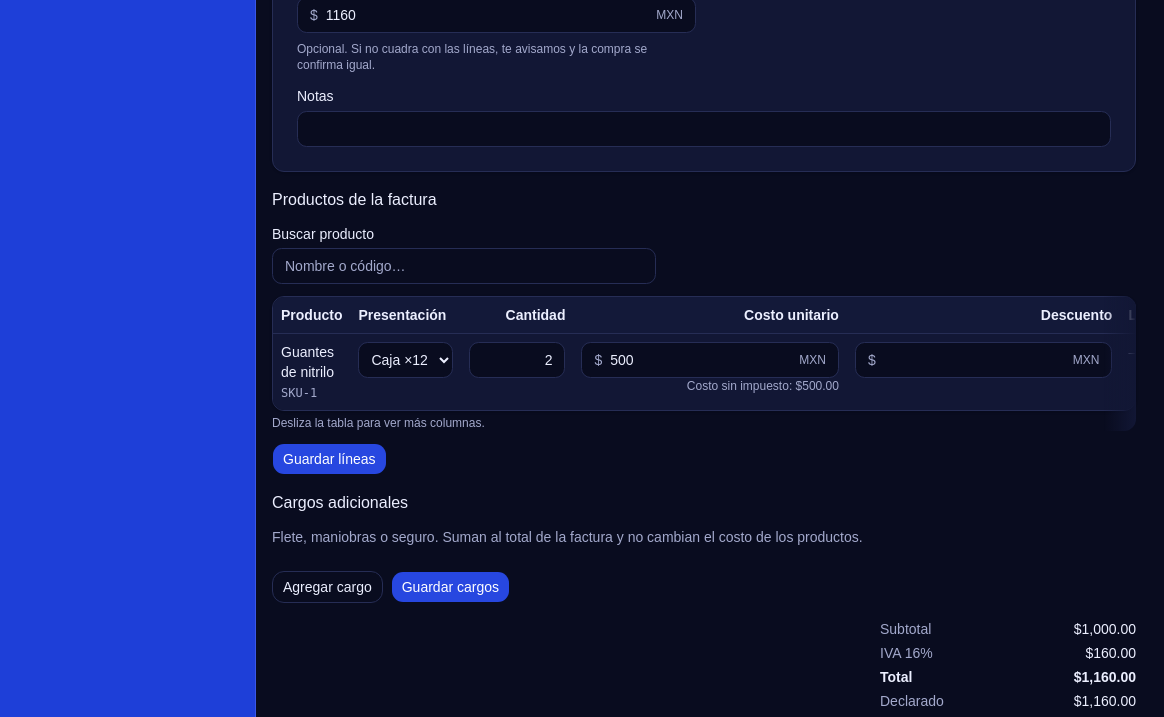
Compras — la ficha (F9-PURCH-11) › confirmar con la cantidad vacía dice «Línea 1 · Cantidad» y no pregunta
The width and height of the screenshot is (1164, 717).
(page scrolled)
Clear the field named "Cantidad" at (518, 360), box [470,342,566,378]
(page scrolled)
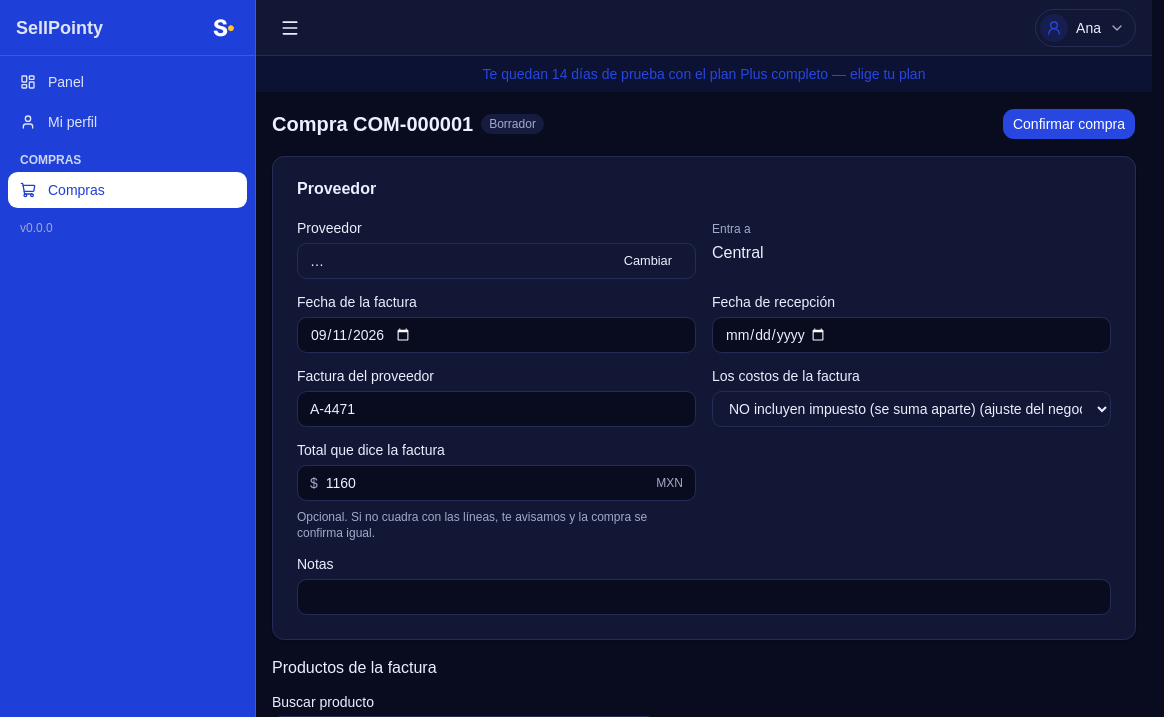
Click the button "Confirmar compra" at (1069, 124), box [1002,108,1136,140]
(page scrolled)
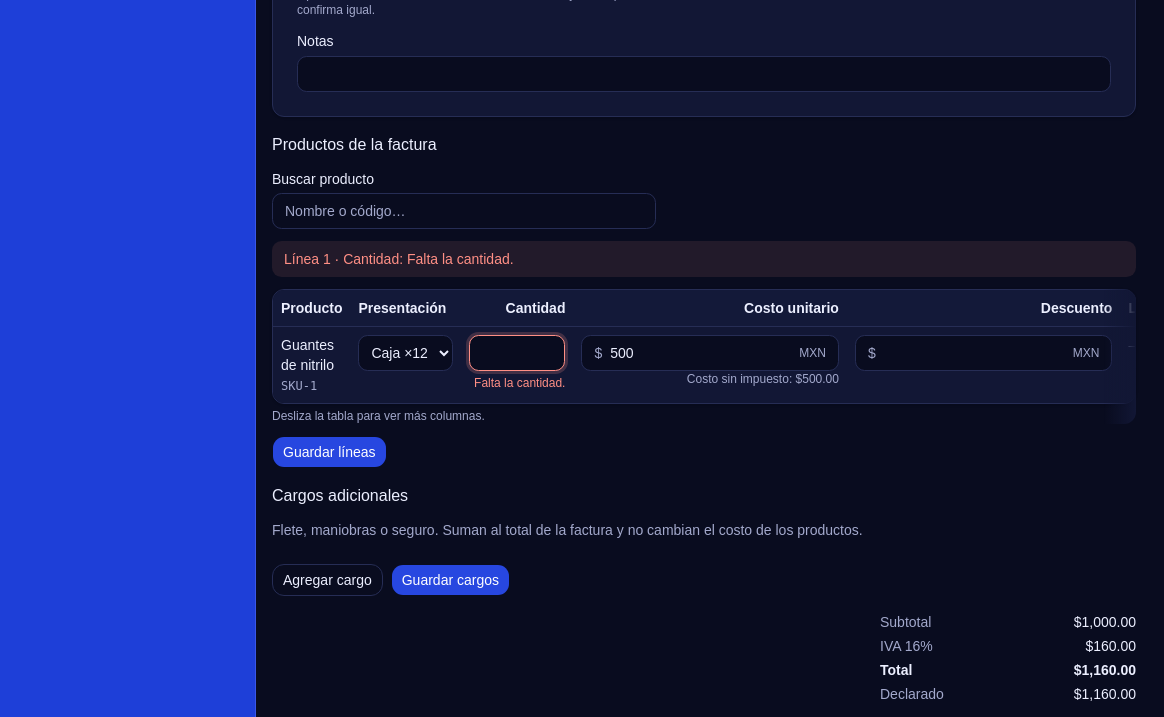
Now the text "Línea 1 · Cantidad: Falta la cantidad." is shown, box [272,241,1136,277]
Now the message with test id "quantity-error-0" reads "Falta la cantidad.", box [474,376,566,390]
